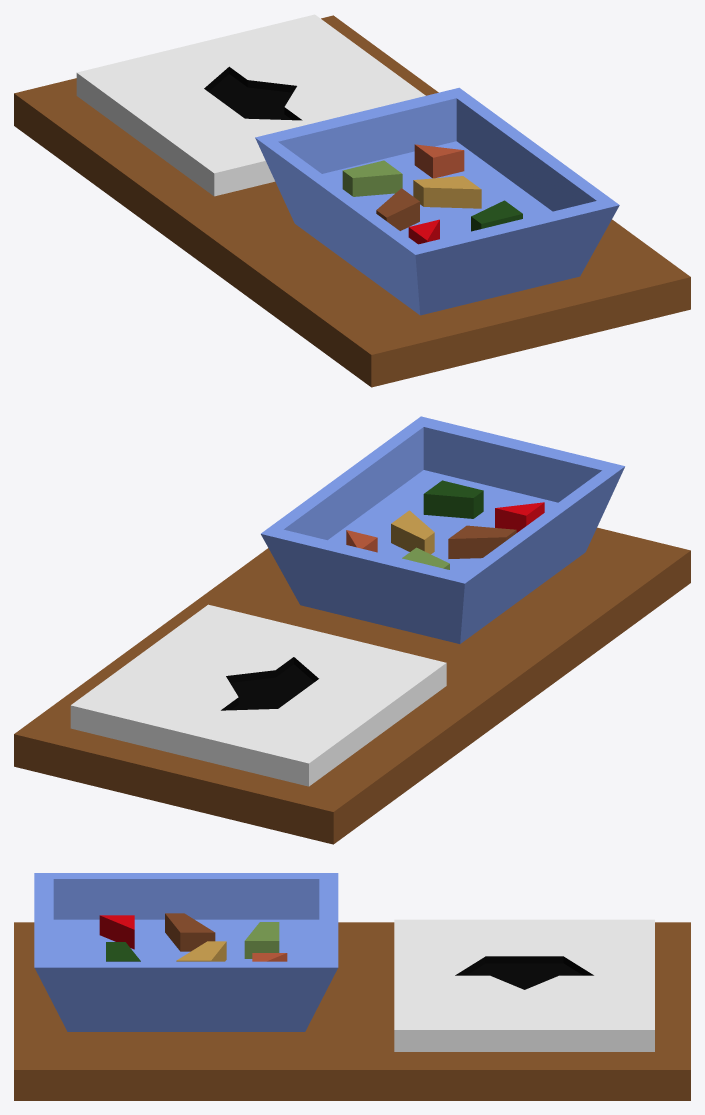
Rendered from kertas_tipe1.fbx.
The picture shows the model from 3 angles, top to bottom: view 1: azimuth 30°, elevation 25°; view 2: azimuth 150°, elevation 25°; view 3: azimuth 270°, elevation 25°; orthographic projection. The views are drawn at different scales.
Parts seen in each view (by area): view 1: Cube.022, Cube.036, Cube.029, Cube.033, Cube.034, Cube.031, Cube.030, Cube.035, Cube.032; view 2: Cube.022, Cube.036, Cube.029, Cube.035, Cube.030, Cube.033, Cube.032; view 3: Cube.022, Cube.036, Cube.029, Cube.030, Cube.034, Cube.032, Cube.033, Cube.035.
Part boxes in pixels (x1=…): Cube.022: x1=14, y1=15, x2=690, y2=387; Cube.036: x1=255, y1=87, x2=619, y2=315; Cube.029: x1=76, y1=14, x2=425, y2=196; Cube.033: x1=413, y1=176, x2=481, y2=208; Cube.034: x1=342, y1=160, x2=402, y2=196; Cube.031: x1=414, y1=144, x2=464, y2=178; Cube.030: x1=376, y1=188, x2=419, y2=230; Cube.035: x1=471, y1=200, x2=522, y2=231; Cube.032: x1=408, y1=219, x2=439, y2=244; Cube.022: x1=14, y1=527, x2=690, y2=844; Cube.036: x1=261, y1=416, x2=624, y2=643; Cube.029: x1=70, y1=604, x2=446, y2=786; Cube.035: x1=423, y1=480, x2=483, y2=518; Cube.030: x1=448, y1=525, x2=516, y2=558; Cube.033: x1=391, y1=510, x2=434, y2=554; Cube.032: x1=495, y1=502, x2=544, y2=532; Cube.022: x1=14, y1=922, x2=690, y2=1100; Cube.036: x1=34, y1=873, x2=338, y2=1031; Cube.029: x1=394, y1=919, x2=654, y2=1051; Cube.030: x1=165, y1=913, x2=215, y2=951; Cube.034: x1=244, y1=922, x2=279, y2=958; Cube.032: x1=99, y1=915, x2=134, y2=949; Cube.033: x1=176, y1=941, x2=226, y2=961; Cube.035: x1=106, y1=942, x2=140, y2=961.
Size of the model in its own units: 159 by 52.94 by 308.
